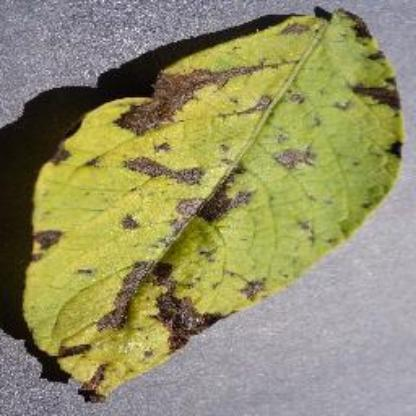Early-Blight: (15, 0, 415, 406)
